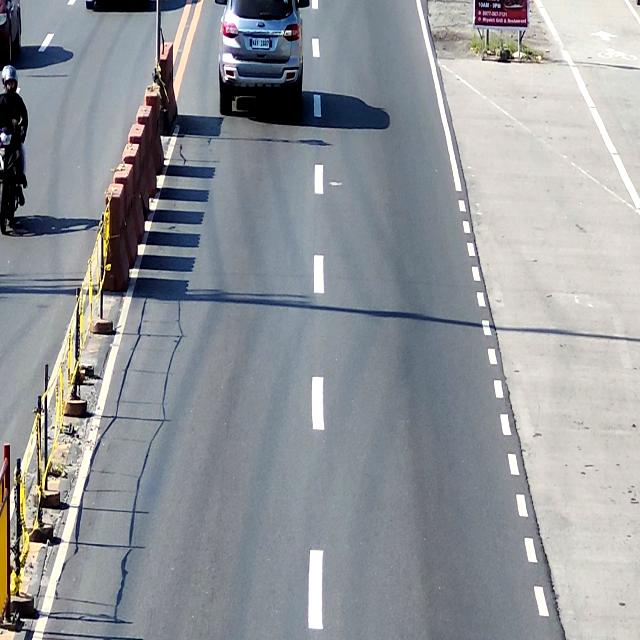Car: (213, 0, 310, 116), (0, 0, 23, 68)
License-Plate: (251, 38, 270, 50)
Motorcycle: (0, 109, 23, 235)
